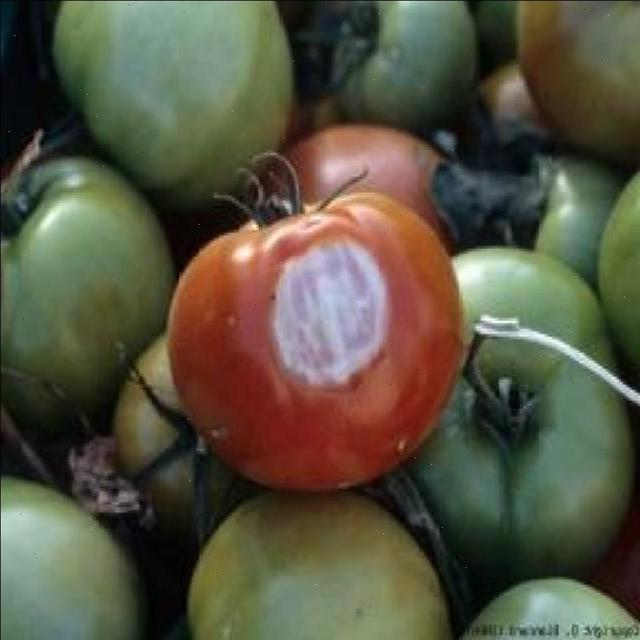Sunscald Fruit: (168, 149, 265, 258)
